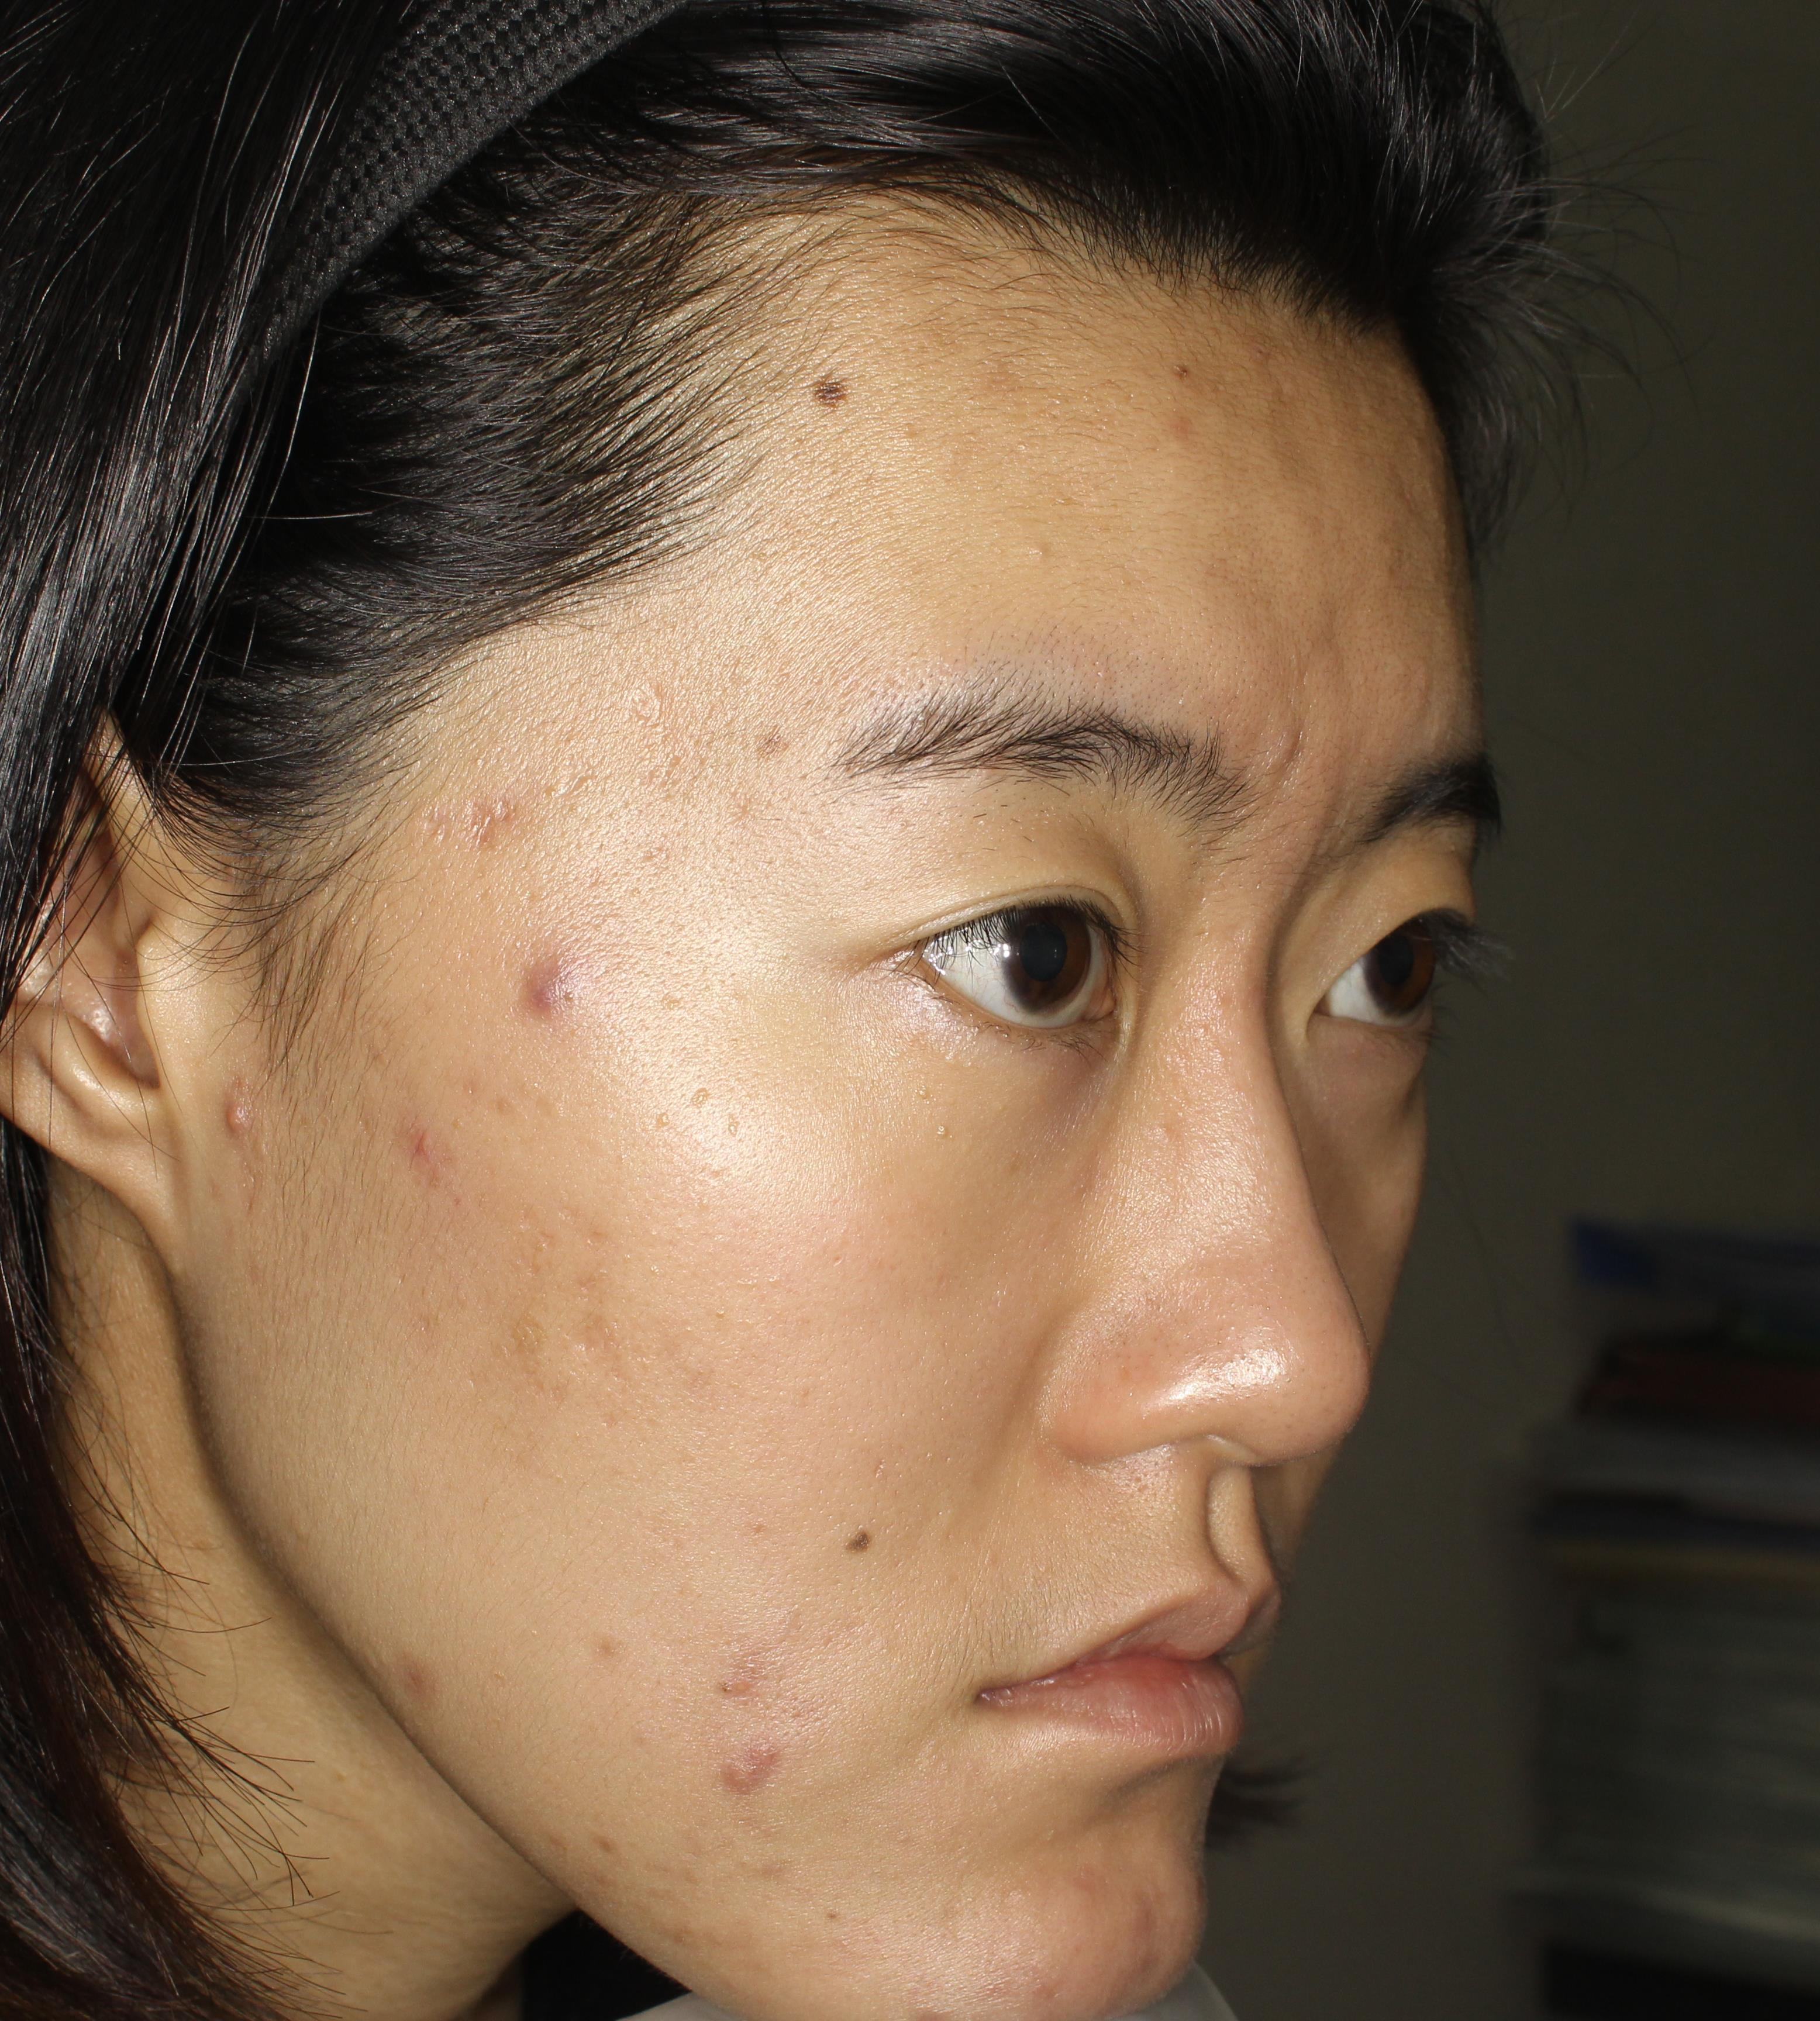fore: (508, 931, 615, 1046), (462, 778, 557, 864), (1091, 1875, 1179, 1961), (704, 1737, 785, 1823), (392, 1643, 459, 1733), (696, 1635, 768, 1715), (381, 1115, 459, 1185)
